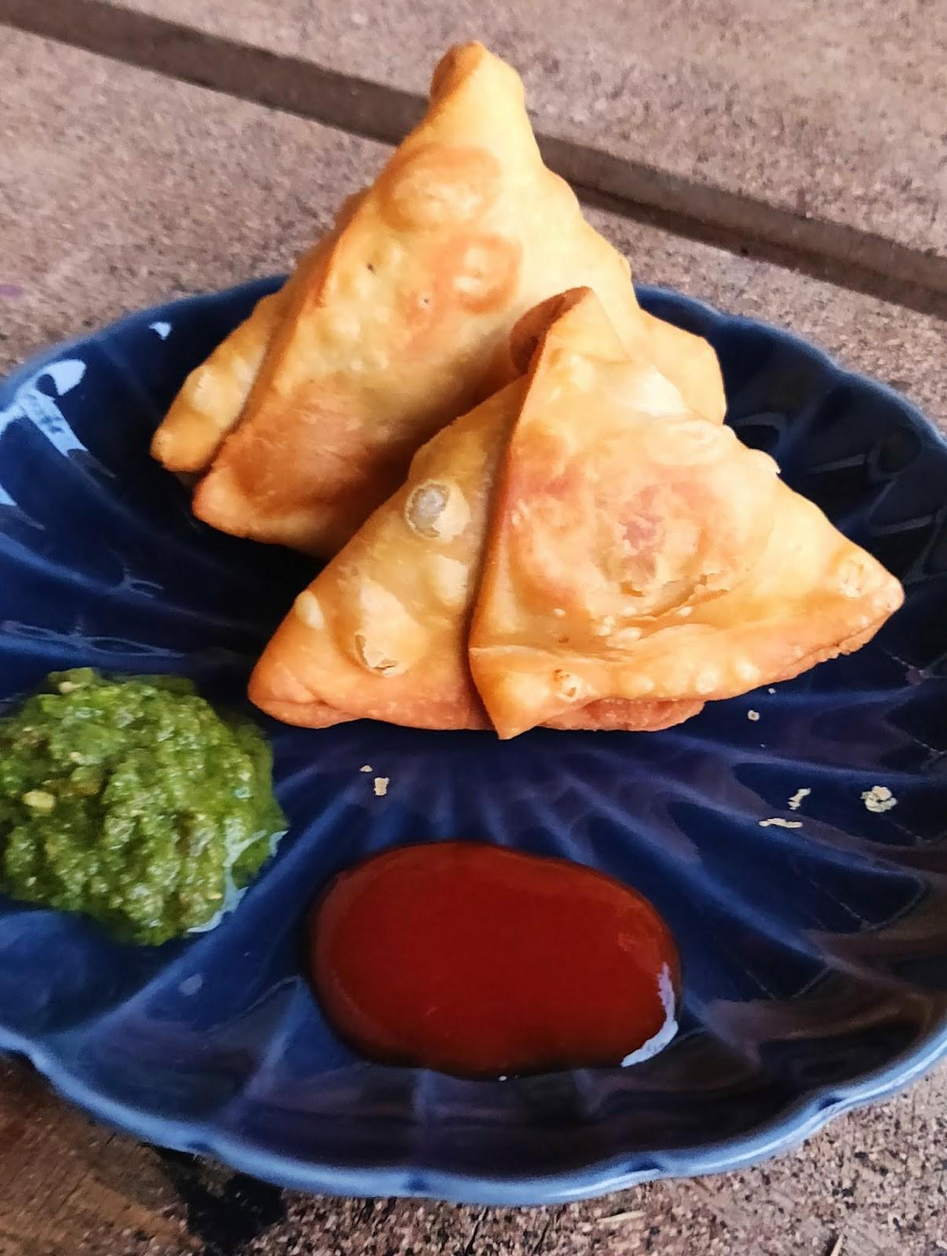GreenChutney: (0, 656, 264, 946)
Samosa: (241, 295, 917, 744), (147, 40, 723, 555)
